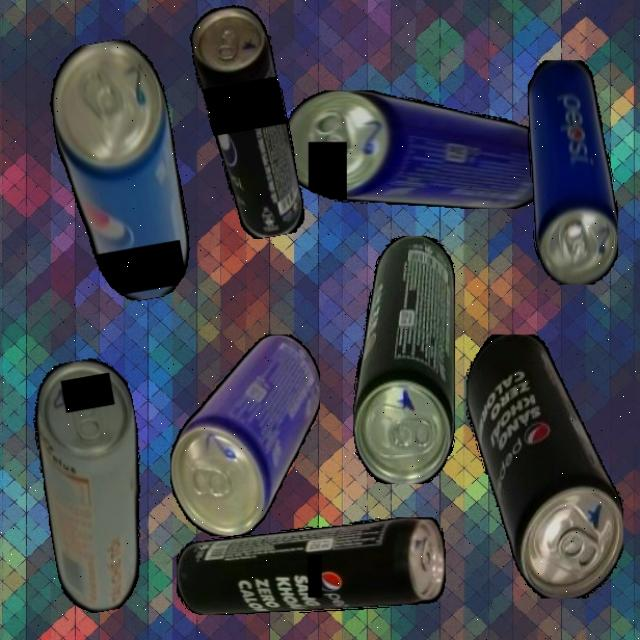debris: (42, 33, 200, 310), (466, 334, 624, 598), (23, 353, 167, 617), (283, 89, 552, 209), (169, 334, 320, 536), (186, 0, 308, 244), (177, 516, 446, 615), (352, 235, 455, 484), (527, 59, 618, 285)
